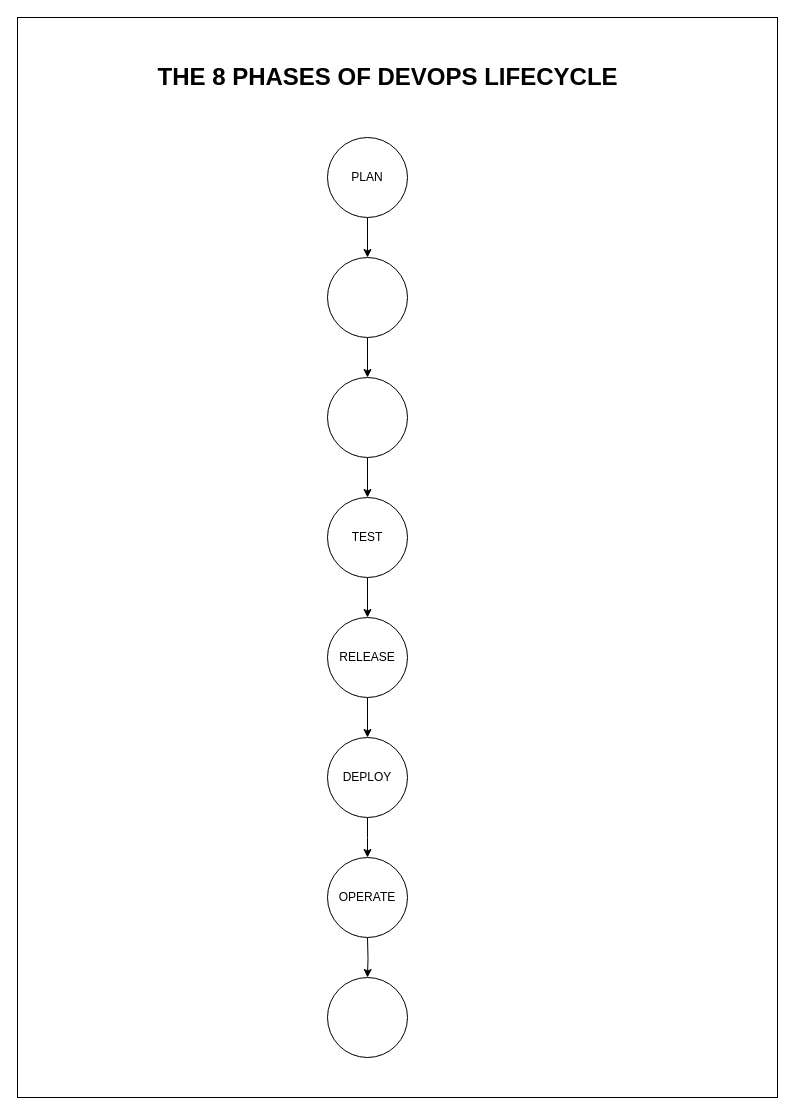
Some shapes in this 795 by 1115 pixel diagram are drawn without their labels. The shapes that lost their labels are listed below. From the top down, each one's centre as x and y in pixels, then its label:
At point 367,297: "DEVELOP".
At point 367,417: "BUILD".
At point 367,1017: "MONITOR".
